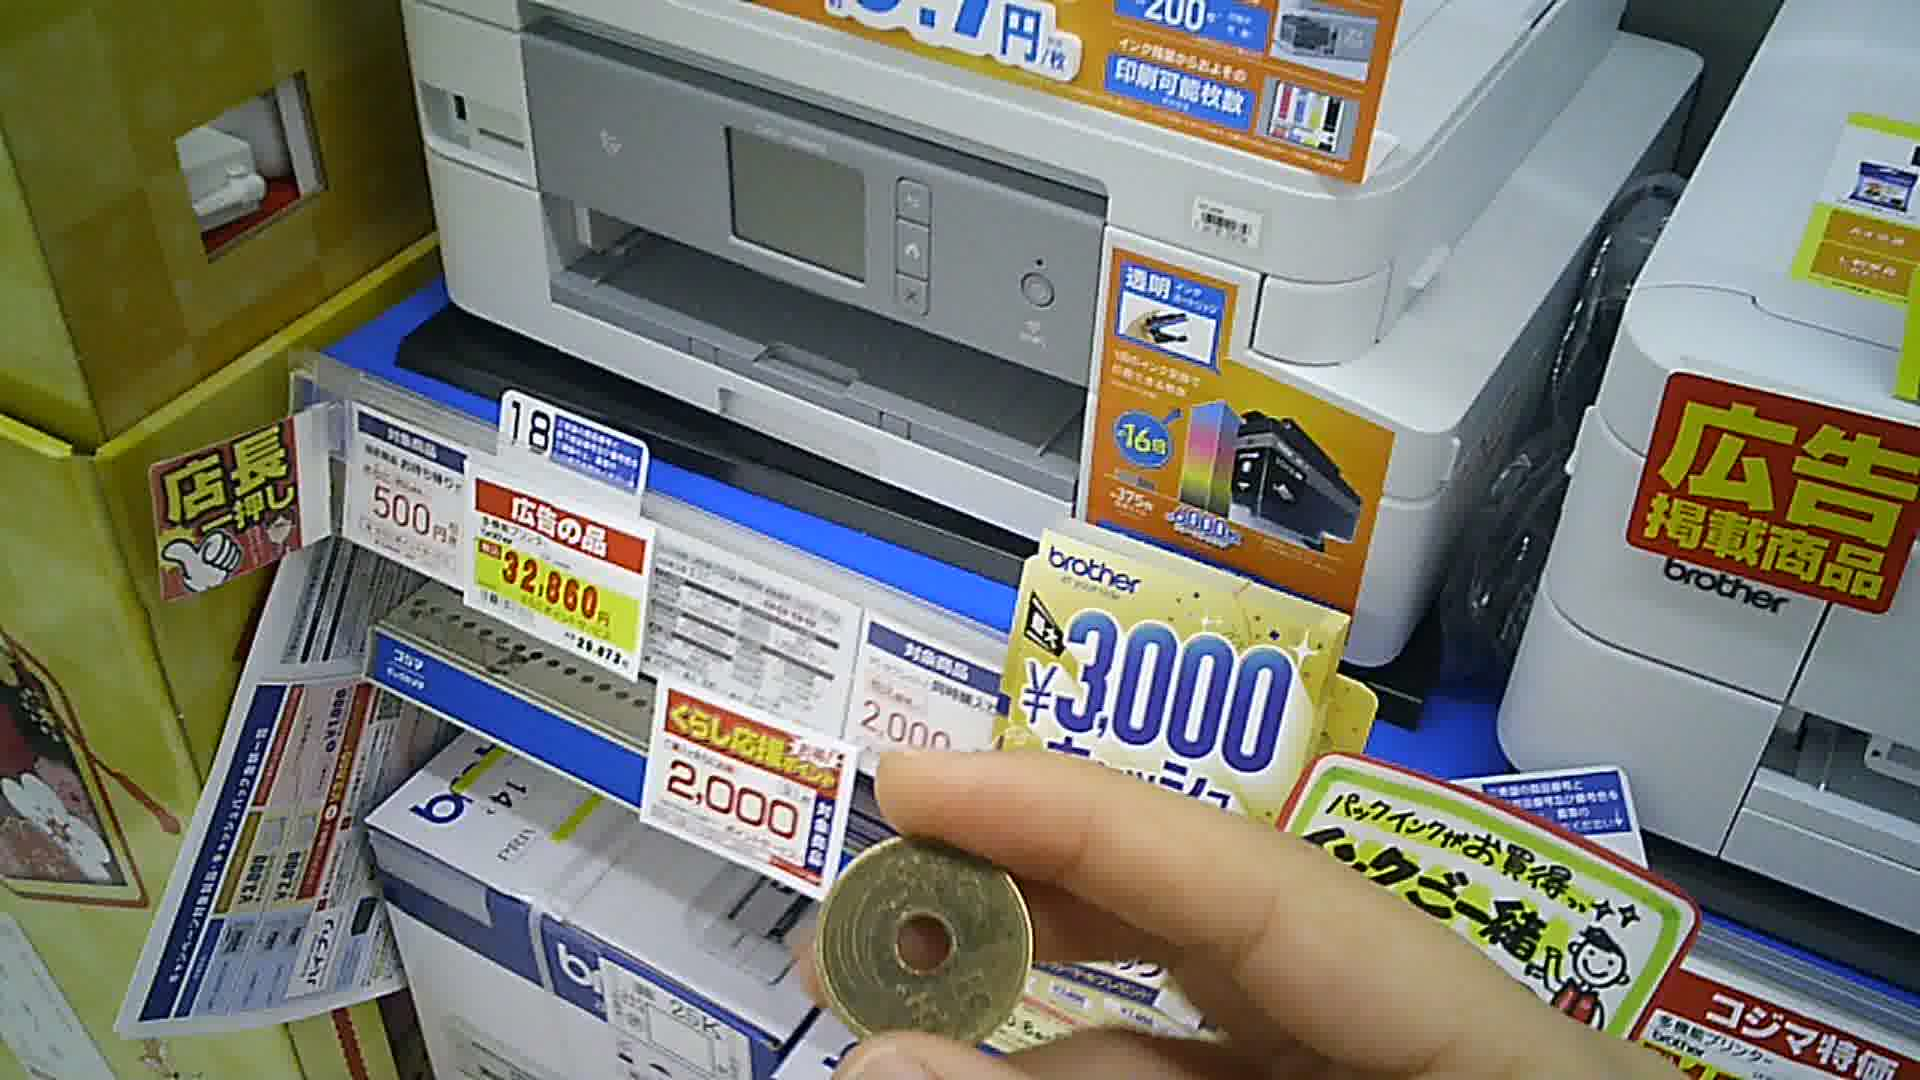5 Yen: (811, 829, 1029, 1054)
